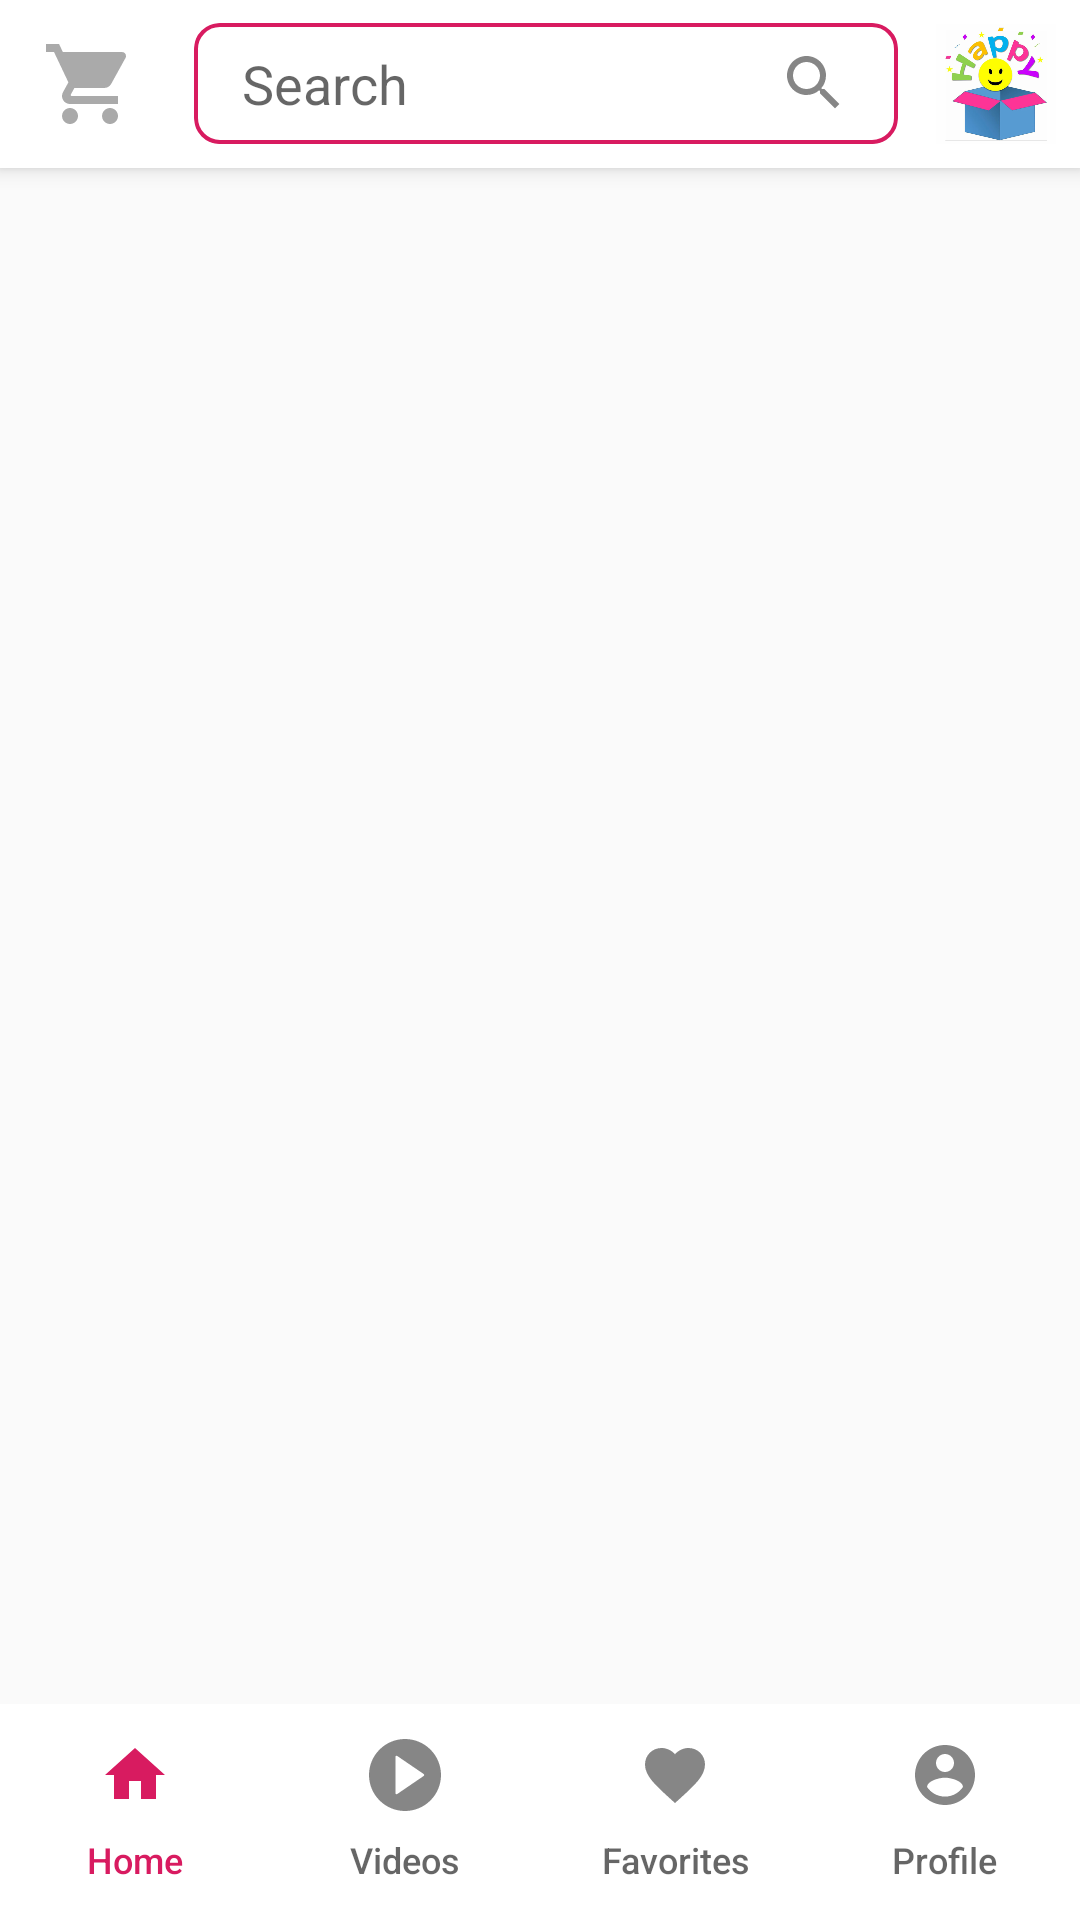

Screen size 1080×1920. Icon name, then its center in pixels as [x,y]:
cart: [86,84]
